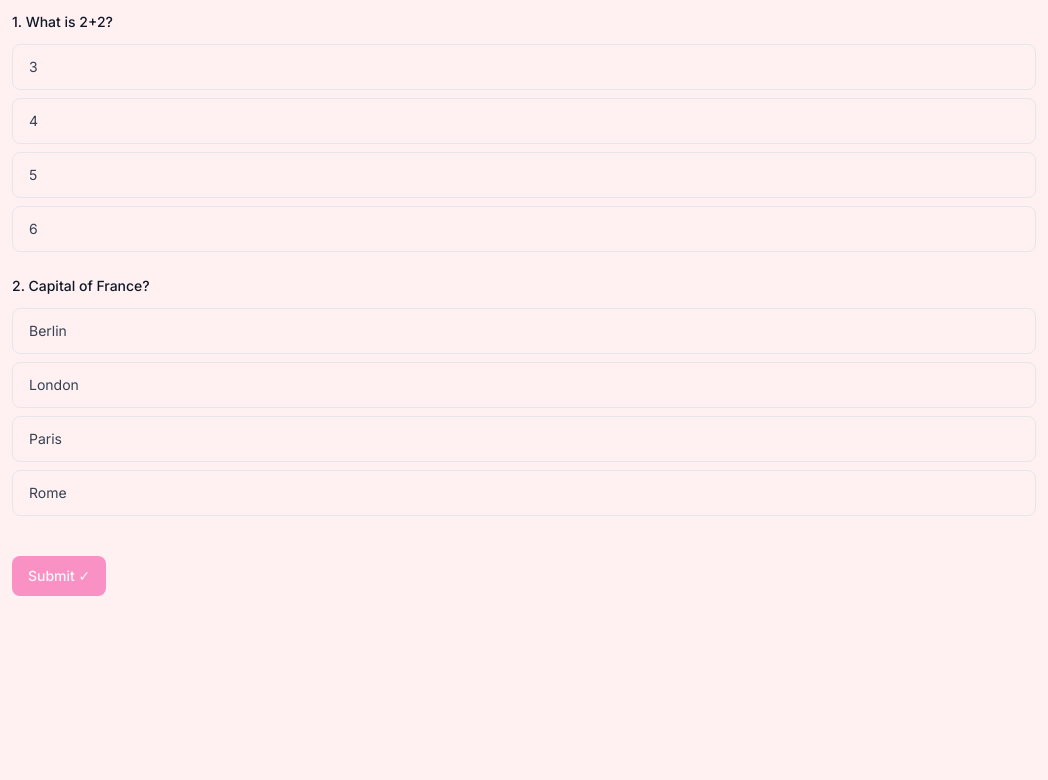
Test: McqExercise › enables submit after all questions answered
Click the button "4" at (34, 120), box [12,98,1036,144]
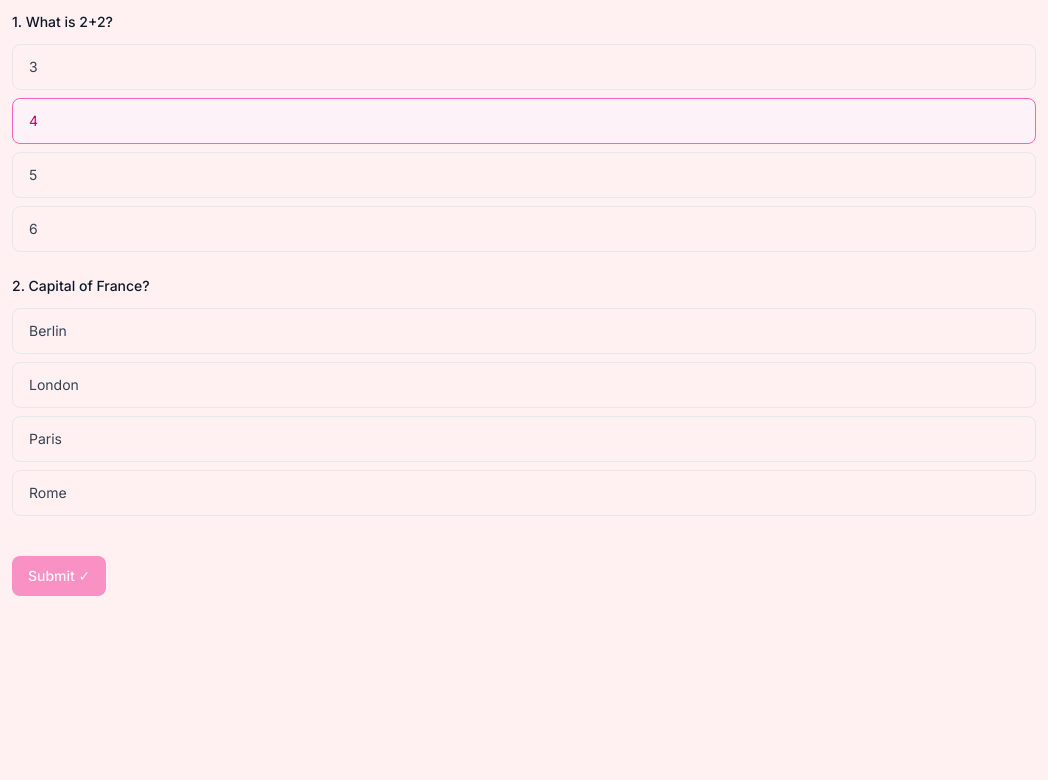
Click the button "Paris" at (46, 438), box [12,416,1036,462]
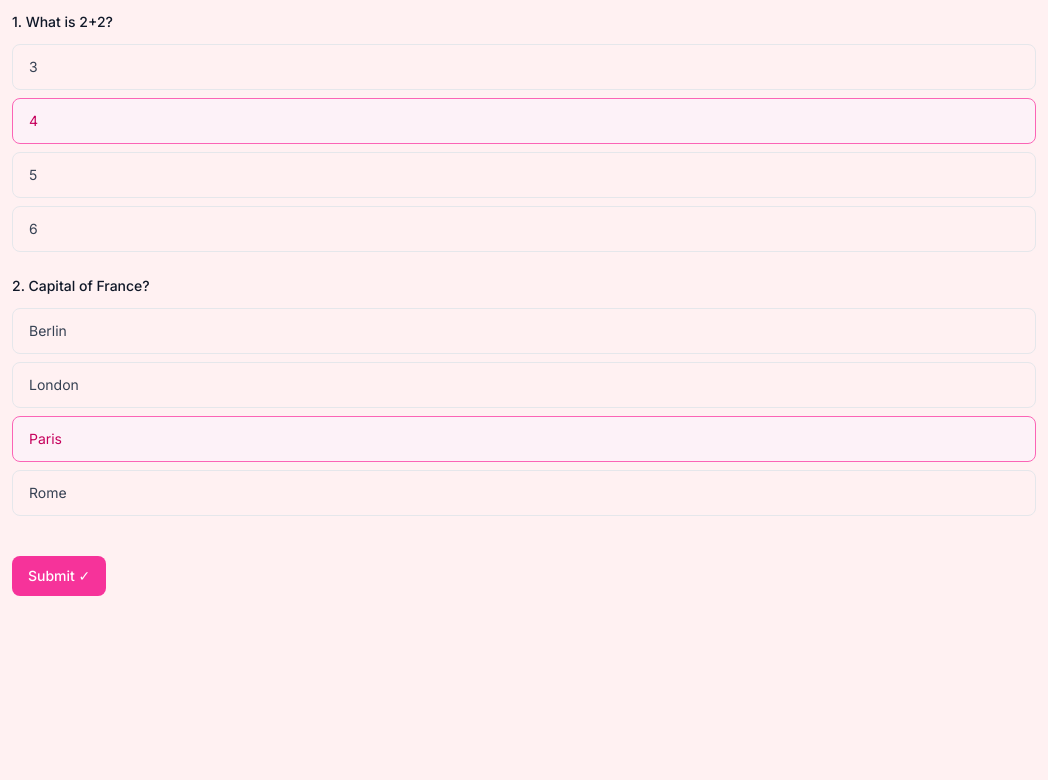
Check: the button "Submit ✓" is enabled, box [12,556,106,596]
